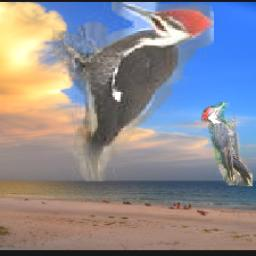Woodpecker: (52, 2, 214, 181), (203, 103, 254, 187)
